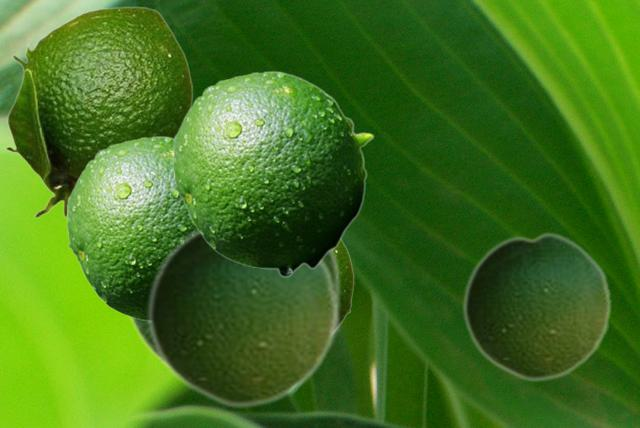dalandan: (172, 70, 373, 277), (4, 6, 192, 218), (146, 227, 338, 409), (122, 247, 341, 370), (66, 135, 194, 322), (462, 230, 611, 382), (336, 239, 353, 323)
